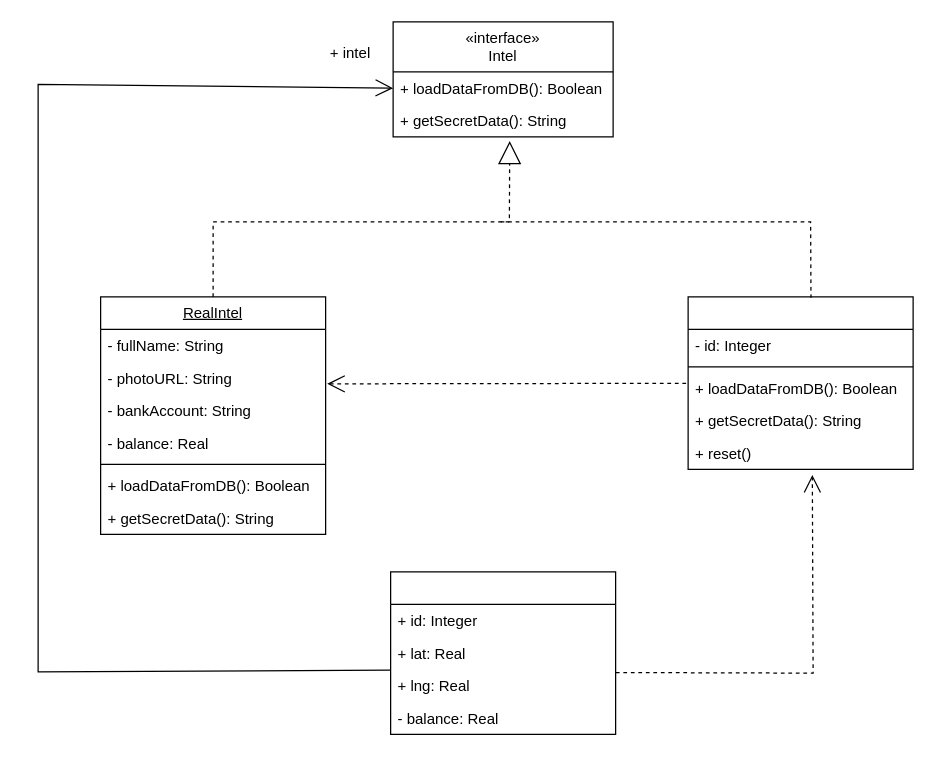
The diagram is 935 pixels wide and 760 high, and some of its shapes have lost their labels. The box of each missing label's shape, as (x1, y1, x2, y2) in pixels:
ProxyIntel: (687, 296, 913, 469)
TargetNode: (389, 571, 616, 734)
